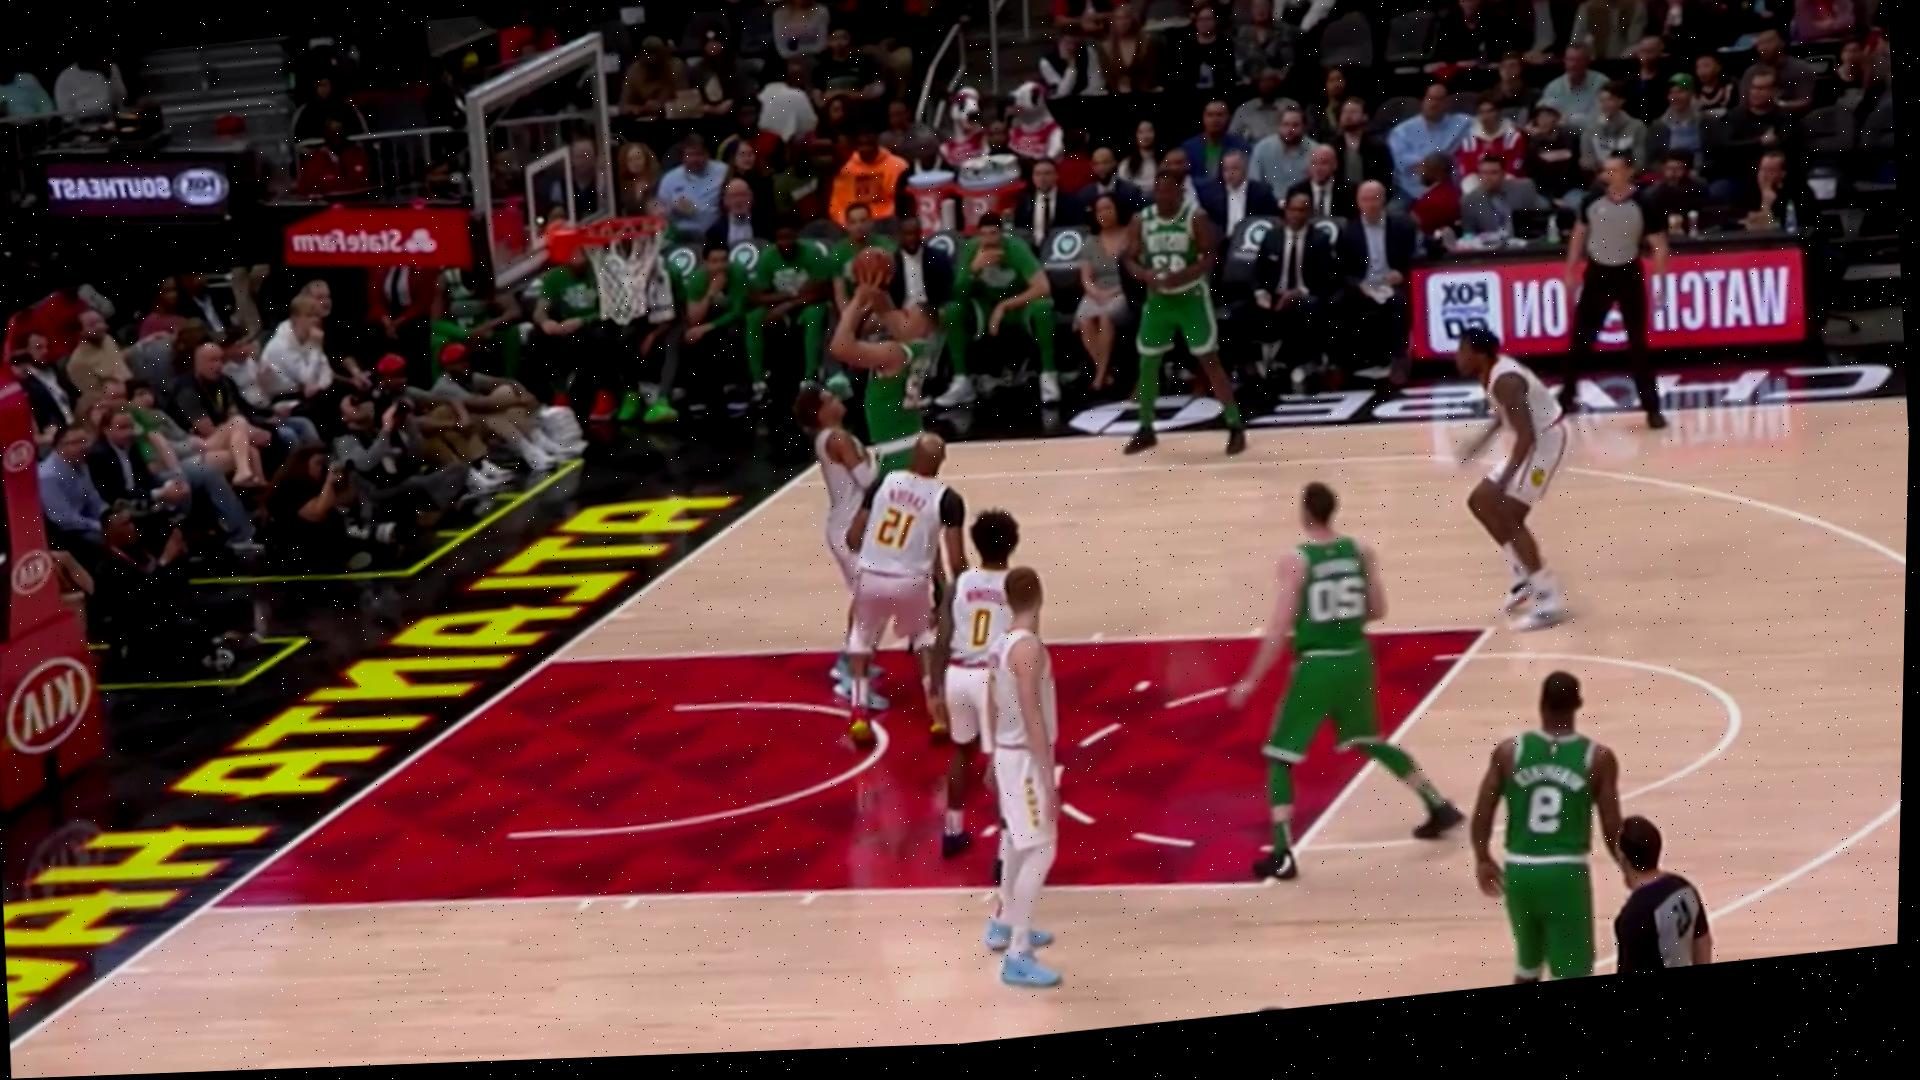foul: (802, 289, 944, 539)
